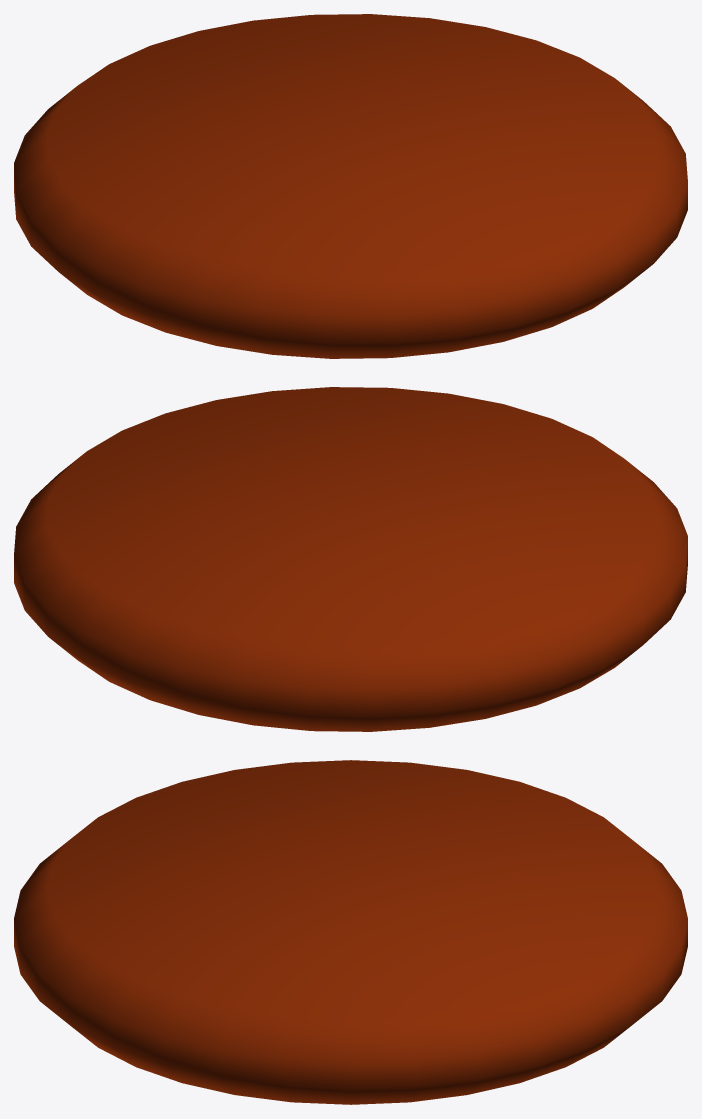
The model's file is steak.fbx.
3 views of the same model, one above another, from view 1: azimuth 30°, elevation 25°; view 2: azimuth 150°, elevation 25°; view 3: azimuth 270°, elevation 25° (orthographic).
Visible parts, largest first — view 1: Circle.002; view 2: Circle.002; view 3: Circle.002.
Boxes of the visible parts, <box> form: Circle.002: <box>14,14,687,358</box>; Circle.002: <box>14,387,687,731</box>; Circle.002: <box>14,760,687,1104</box>.
Size of the model in its own units: 200 by 28.71 by 200.
